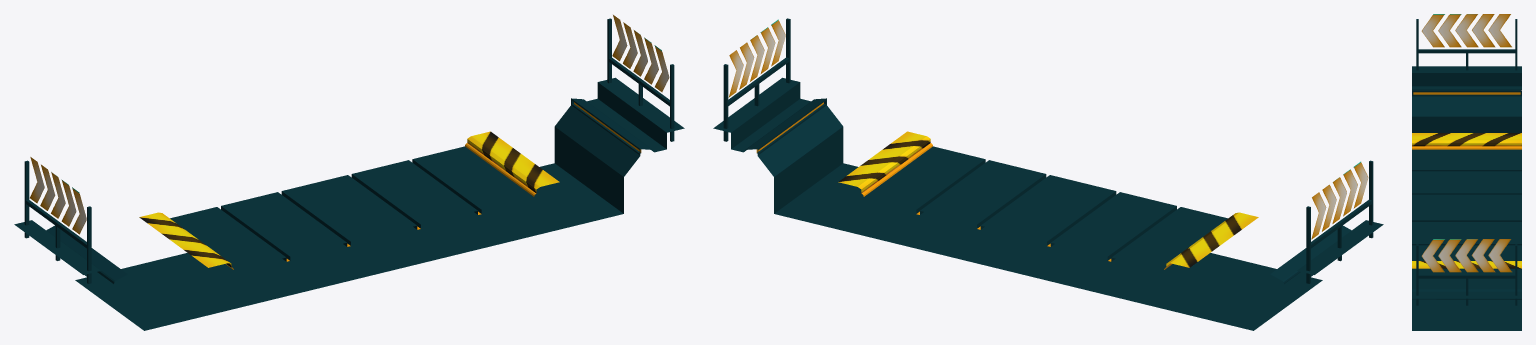
The model's file is Pista_naranja.fbx.
The picture shows the model from 3 angles, left to right: view 1: azimuth 30°, elevation 25°; view 2: azimuth 150°, elevation 25°; view 3: azimuth 270°, elevation 25°; orthographic projection. The views are drawn at different scales.
Visible parts, largest first — view 1: Pista_naranja; view 2: Pista_naranja; view 3: Pista_naranja.
Boxes of the visible parts, bbox=[...] form: Pista_naranja: bbox=[14, 15, 684, 330]; Pista_naranja: bbox=[713, 18, 1383, 330]; Pista_naranja: bbox=[1412, 14, 1521, 330].
Bounding box in the file's own units: 1002 × 225 × 200.
